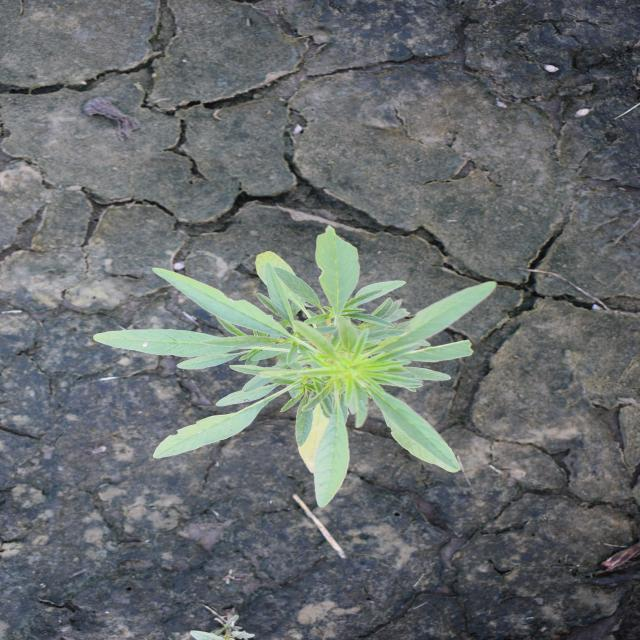Waterhemp: (89, 221, 502, 508)
